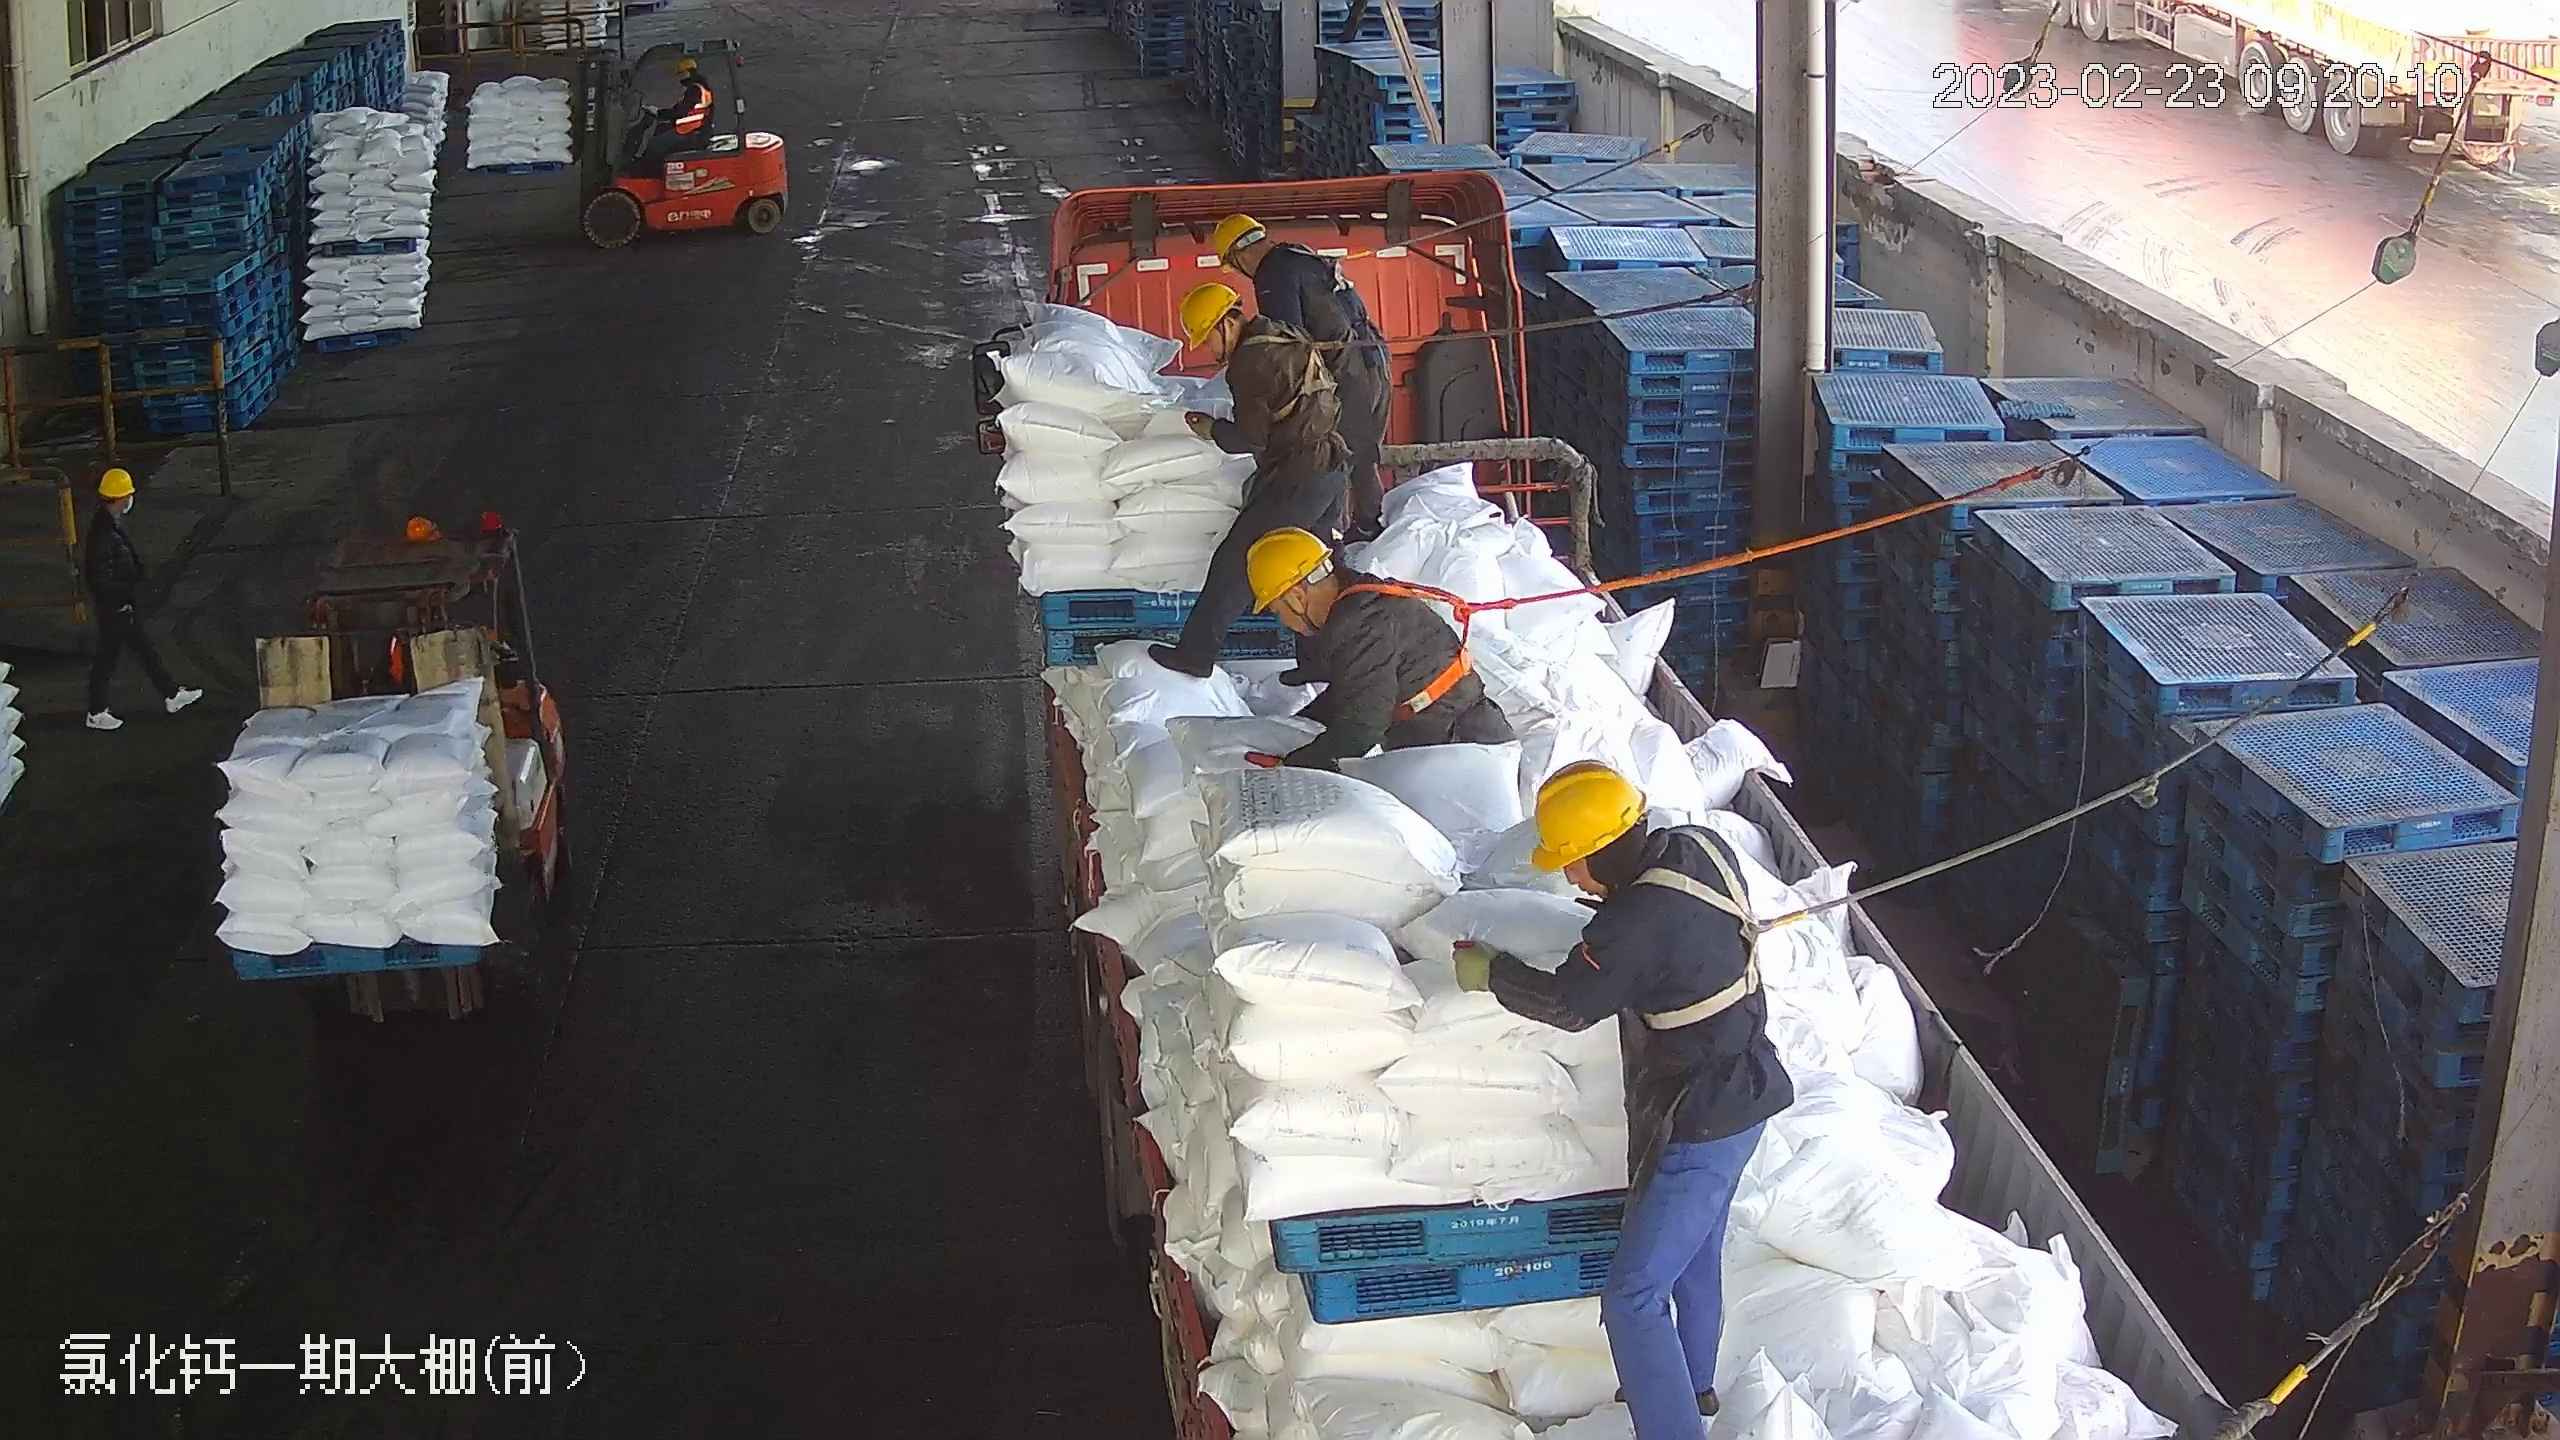belt: (1624, 826, 1815, 1028), (1332, 569, 1510, 713), (1238, 320, 1350, 422), (1286, 236, 1370, 294)
head: (1526, 759, 1749, 964), (1244, 525, 1417, 673), (1176, 279, 1298, 389), (1210, 212, 1312, 297), (82, 466, 145, 554), (666, 54, 708, 103)
helmet: (1528, 761, 1650, 871), (1244, 526, 1330, 614), (1179, 278, 1243, 344), (1211, 211, 1265, 259), (95, 465, 136, 498), (668, 52, 695, 72)
people: (1449, 762, 1788, 1437), (1165, 274, 1356, 686), (1244, 528, 1513, 767), (1201, 211, 1403, 518), (73, 463, 195, 729), (640, 54, 712, 155)
truck: (969, 150, 2248, 1436)
